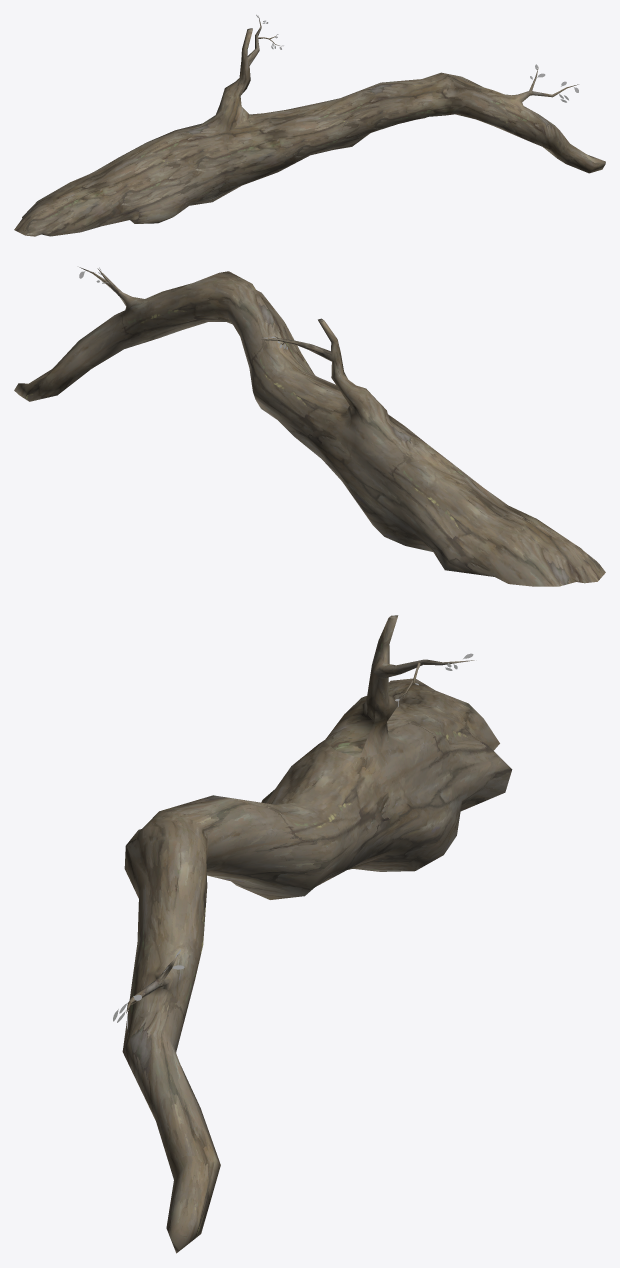
Rendered from SM_Com_Tre_09AM.fbx.
The picture shows the model from 3 angles, top to bottom: view 1: azimuth 30°, elevation 25°; view 2: azimuth 150°, elevation 25°; view 3: azimuth 270°, elevation 25°; orthographic projection. The views are drawn at different scales.
Visible parts, largest first — view 1: SM_Com_Tre_09AM.mo; view 2: SM_Com_Tre_09AM.mo; view 3: SM_Com_Tre_09AM.mo.
Part boxes in pixels (x1,y1,x2,y2): SM_Com_Tre_09AM.mo: (14,14,605,236); SM_Com_Tre_09AM.mo: (14,267,605,586); SM_Com_Tre_09AM.mo: (113,615,512,1253).
Size of the model in its own units: 6.01 by 1.88 by 1.98.
